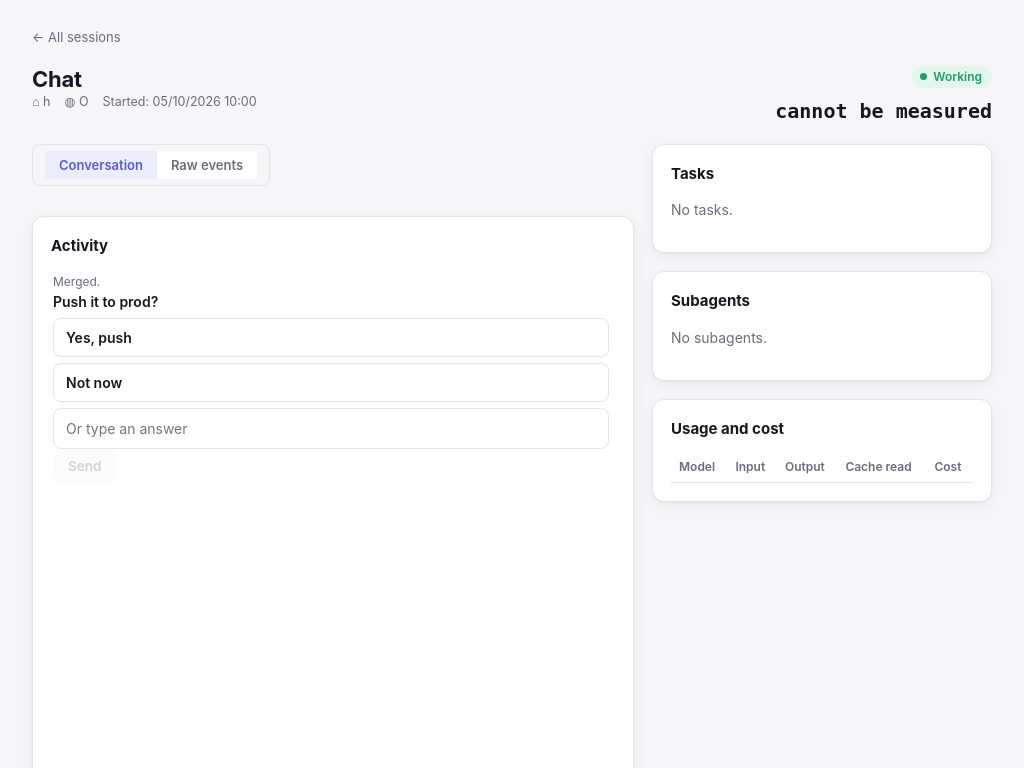
Scenario: answering the desktop app's next-step question from the web › says so when the answer could not be sent and lets the person try again
Click the button "Yes, push" at (99,338), box left=53, top=318, right=609, bottom=357
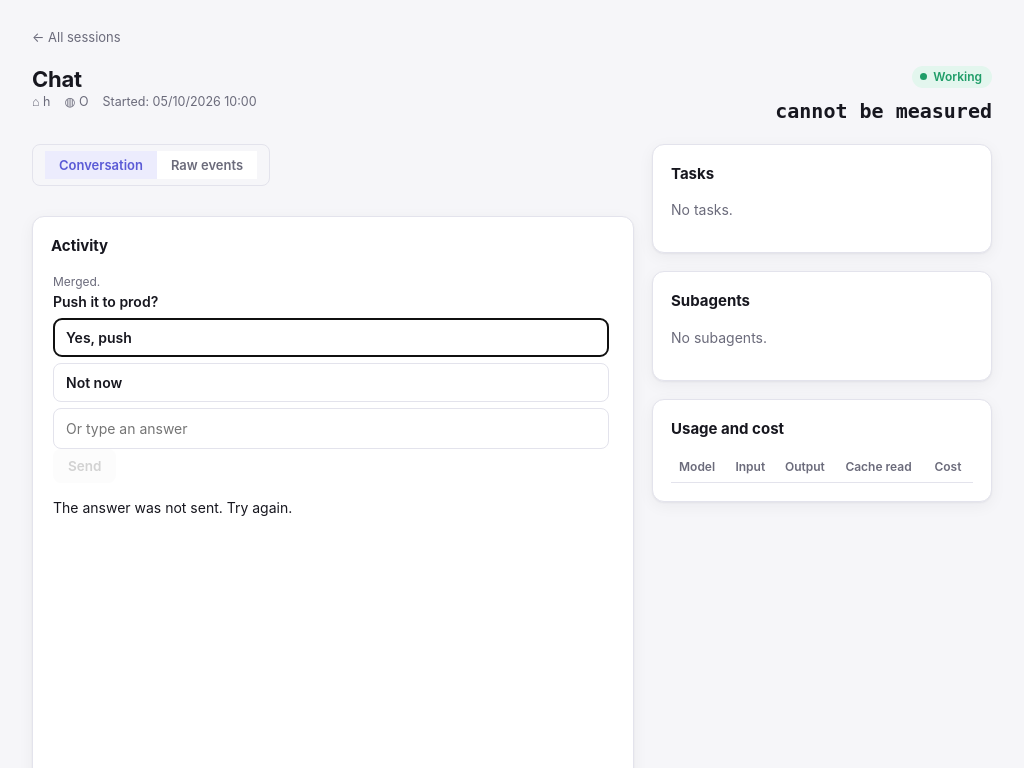
Result: the message shows "The answer was not sent" at left=53, top=499, right=292, bottom=516
Click the button "Yes, push" at (99,338), box left=53, top=318, right=609, bottom=357
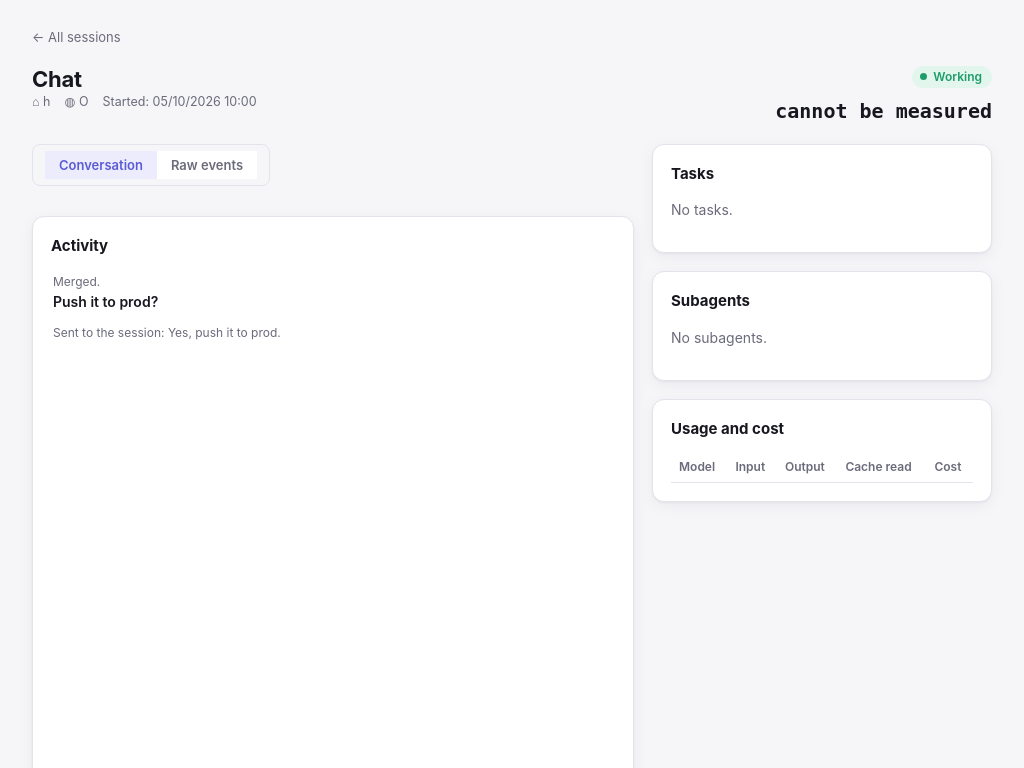
Result: the text "Sent to the session: Yes, push it to prod." is shown at left=53, top=325, right=281, bottom=340
